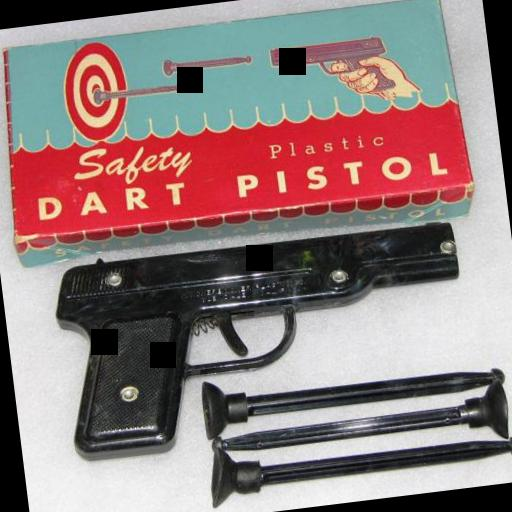Handgun: (45, 209, 476, 455)
